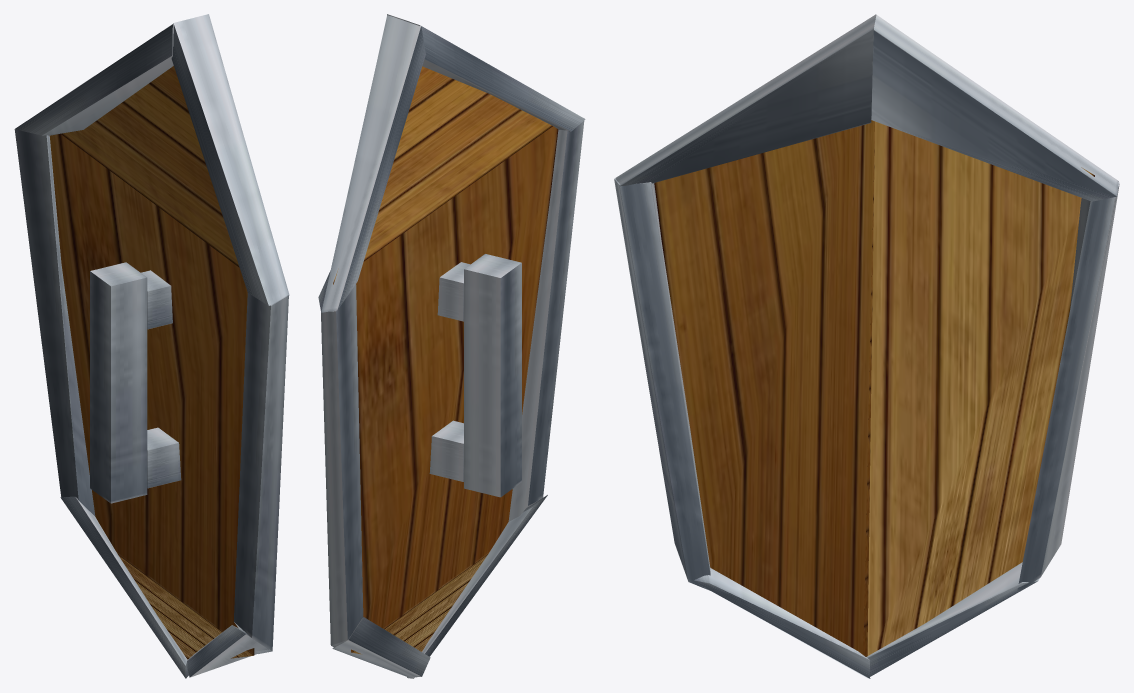
File: shield 2.fbx
The picture shows the model from 3 angles, left to right: view 1: azimuth 30°, elevation 25°; view 2: azimuth 150°, elevation 25°; view 3: azimuth 270°, elevation 25°; orthographic projection.
Parts seen in each view (by area): view 1: pCube1, pasted__pCube4, pCube8, pCube2, pCube4, pasted__pCube2, pCube5, pCube6, pasted__pCube7, pCube7; view 2: pCube1, pCube8, pCube4, pasted__pCube2, pasted__pCube4, pCube2, pCube5, pCube6, pasted__pCube7, pCube7; view 3: pCube1, pasted__pCube2, pCube2, pasted__pCube4, pCube4, pCube6, pCube5.
Boxes of the visible parts, x1,y1,x2,y2 form: pCube1: (49,66,254,659); pasted__pCube4: (233,293,288,653); pCube8: (90,262,147,503); pCube2: (171,14,289,305); pCube4: (15,129,95,516); pasted__pCube2: (14,24,173,135); pCube5: (60,496,188,678); pCube6: (187,625,268,677); pasted__pCube7: (147,427,181,488); pCube7: (141,270,172,329); pCube1: (333,66,558,654); pCube8: (464,254,521,497); pCube4: (321,284,363,646); pasted__pCube2: (318,15,425,312); pasted__pCube4: (508,120,584,521); pCube2: (387,14,585,131); pCube5: (332,617,430,677); pCube6: (407,495,547,678); pasted__pCube7: (429,420,463,481); pCube7: (437,262,470,321); pCube1: (654,120,1094,656); pasted__pCube2: (871,15,1118,201); pCube2: (615,14,876,186); pasted__pCube4: (614,178,710,590); pCube4: (1017,182,1119,592); pCube6: (694,568,870,678); pCube5: (866,562,1039,676).
Size of the model in its own units: 3.19 by 17.27 by 12.
Materials: 10 (10 with a texture image).
